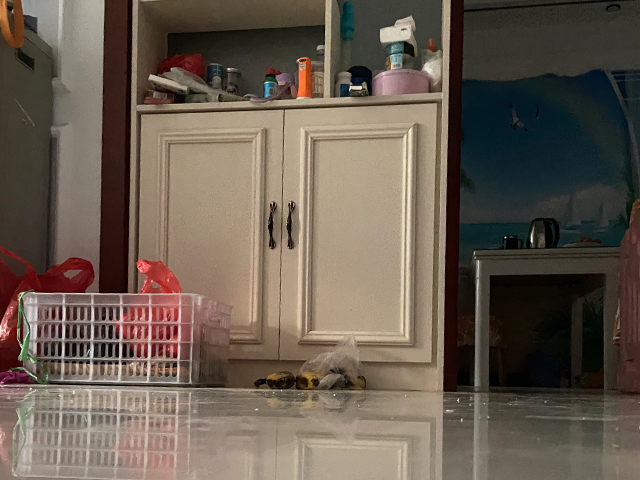cabinet: (96, 100, 453, 394)
table: (470, 245, 627, 393)
